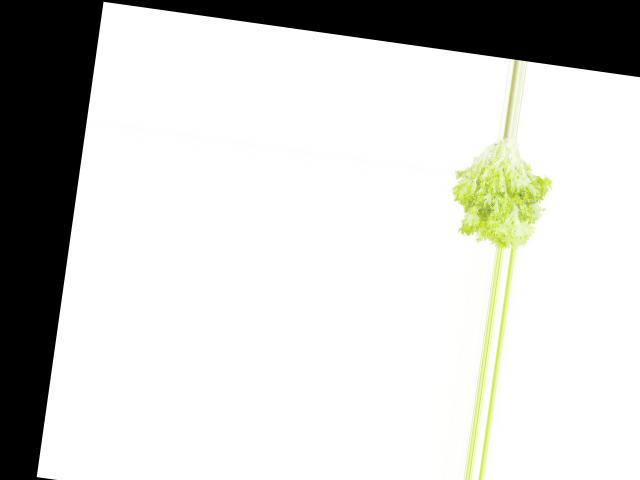lettuce: (440, 128, 558, 253)
